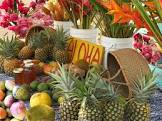Pineapple: (55, 68, 82, 120), (128, 73, 150, 120), (103, 82, 125, 121), (4, 37, 20, 76), (19, 32, 41, 59), (52, 27, 68, 63)
